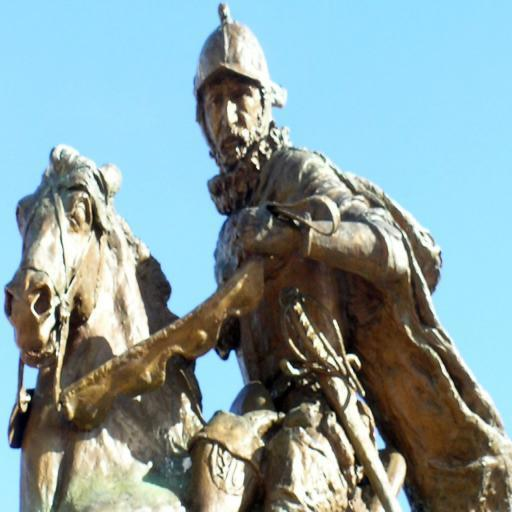horse: (4, 139, 208, 512)
